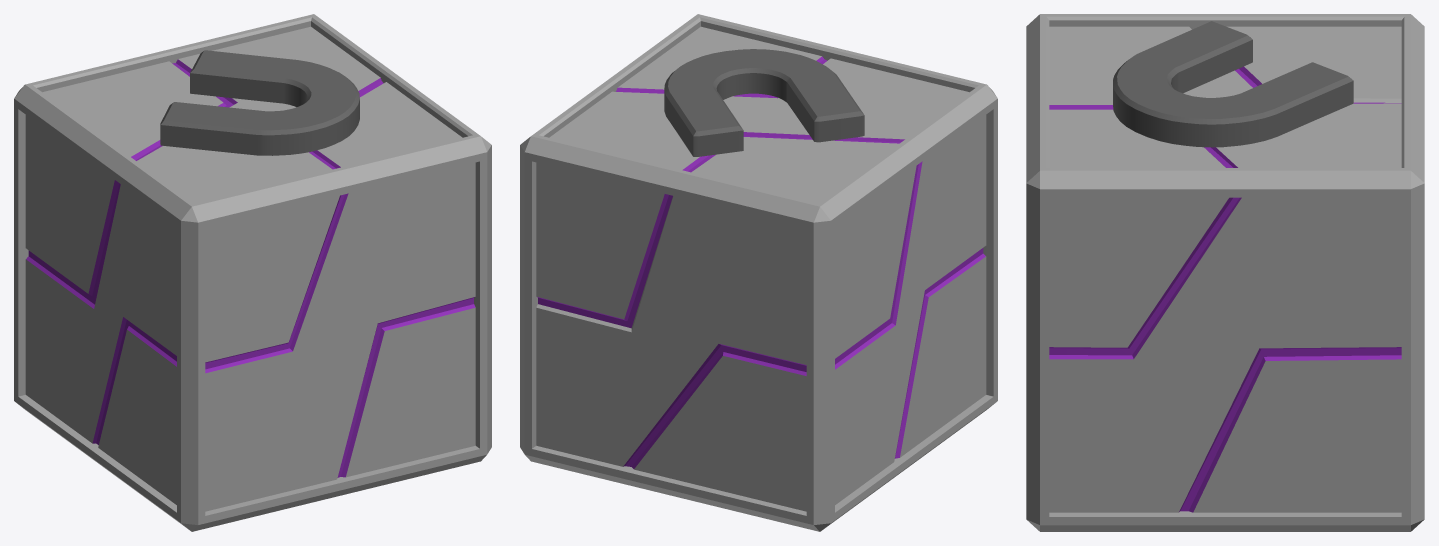
The model's file is SM_MagnetCube.fbx.
3 views of the same model, side by side, from view 1: azimuth 30°, elevation 25°; view 2: azimuth 150°, elevation 25°; view 3: azimuth 270°, elevation 25° (orthographic). The views are drawn at different scales.
Parts seen in each view (by area): view 1: pCube6, pCube8, Magnet; view 2: pCube6, pCube8, Magnet; view 3: pCube6, pCube8, Magnet.
Part boxes in pixels (x1,y1,x2,y2): pCube6: [25, 26, 475, 511]; pCube8: [14, 14, 491, 531]; Magnet: [160, 50, 359, 155]; pCube6: [536, 26, 986, 511]; pCube8: [520, 14, 997, 531]; Magnet: [664, 49, 864, 156]; pCube6: [1049, 26, 1401, 512]; pCube8: [1026, 14, 1424, 531]; Magnet: [1113, 21, 1353, 147].
Bounding box in the file's own units: 52.55 × 55.43 × 52.55.
